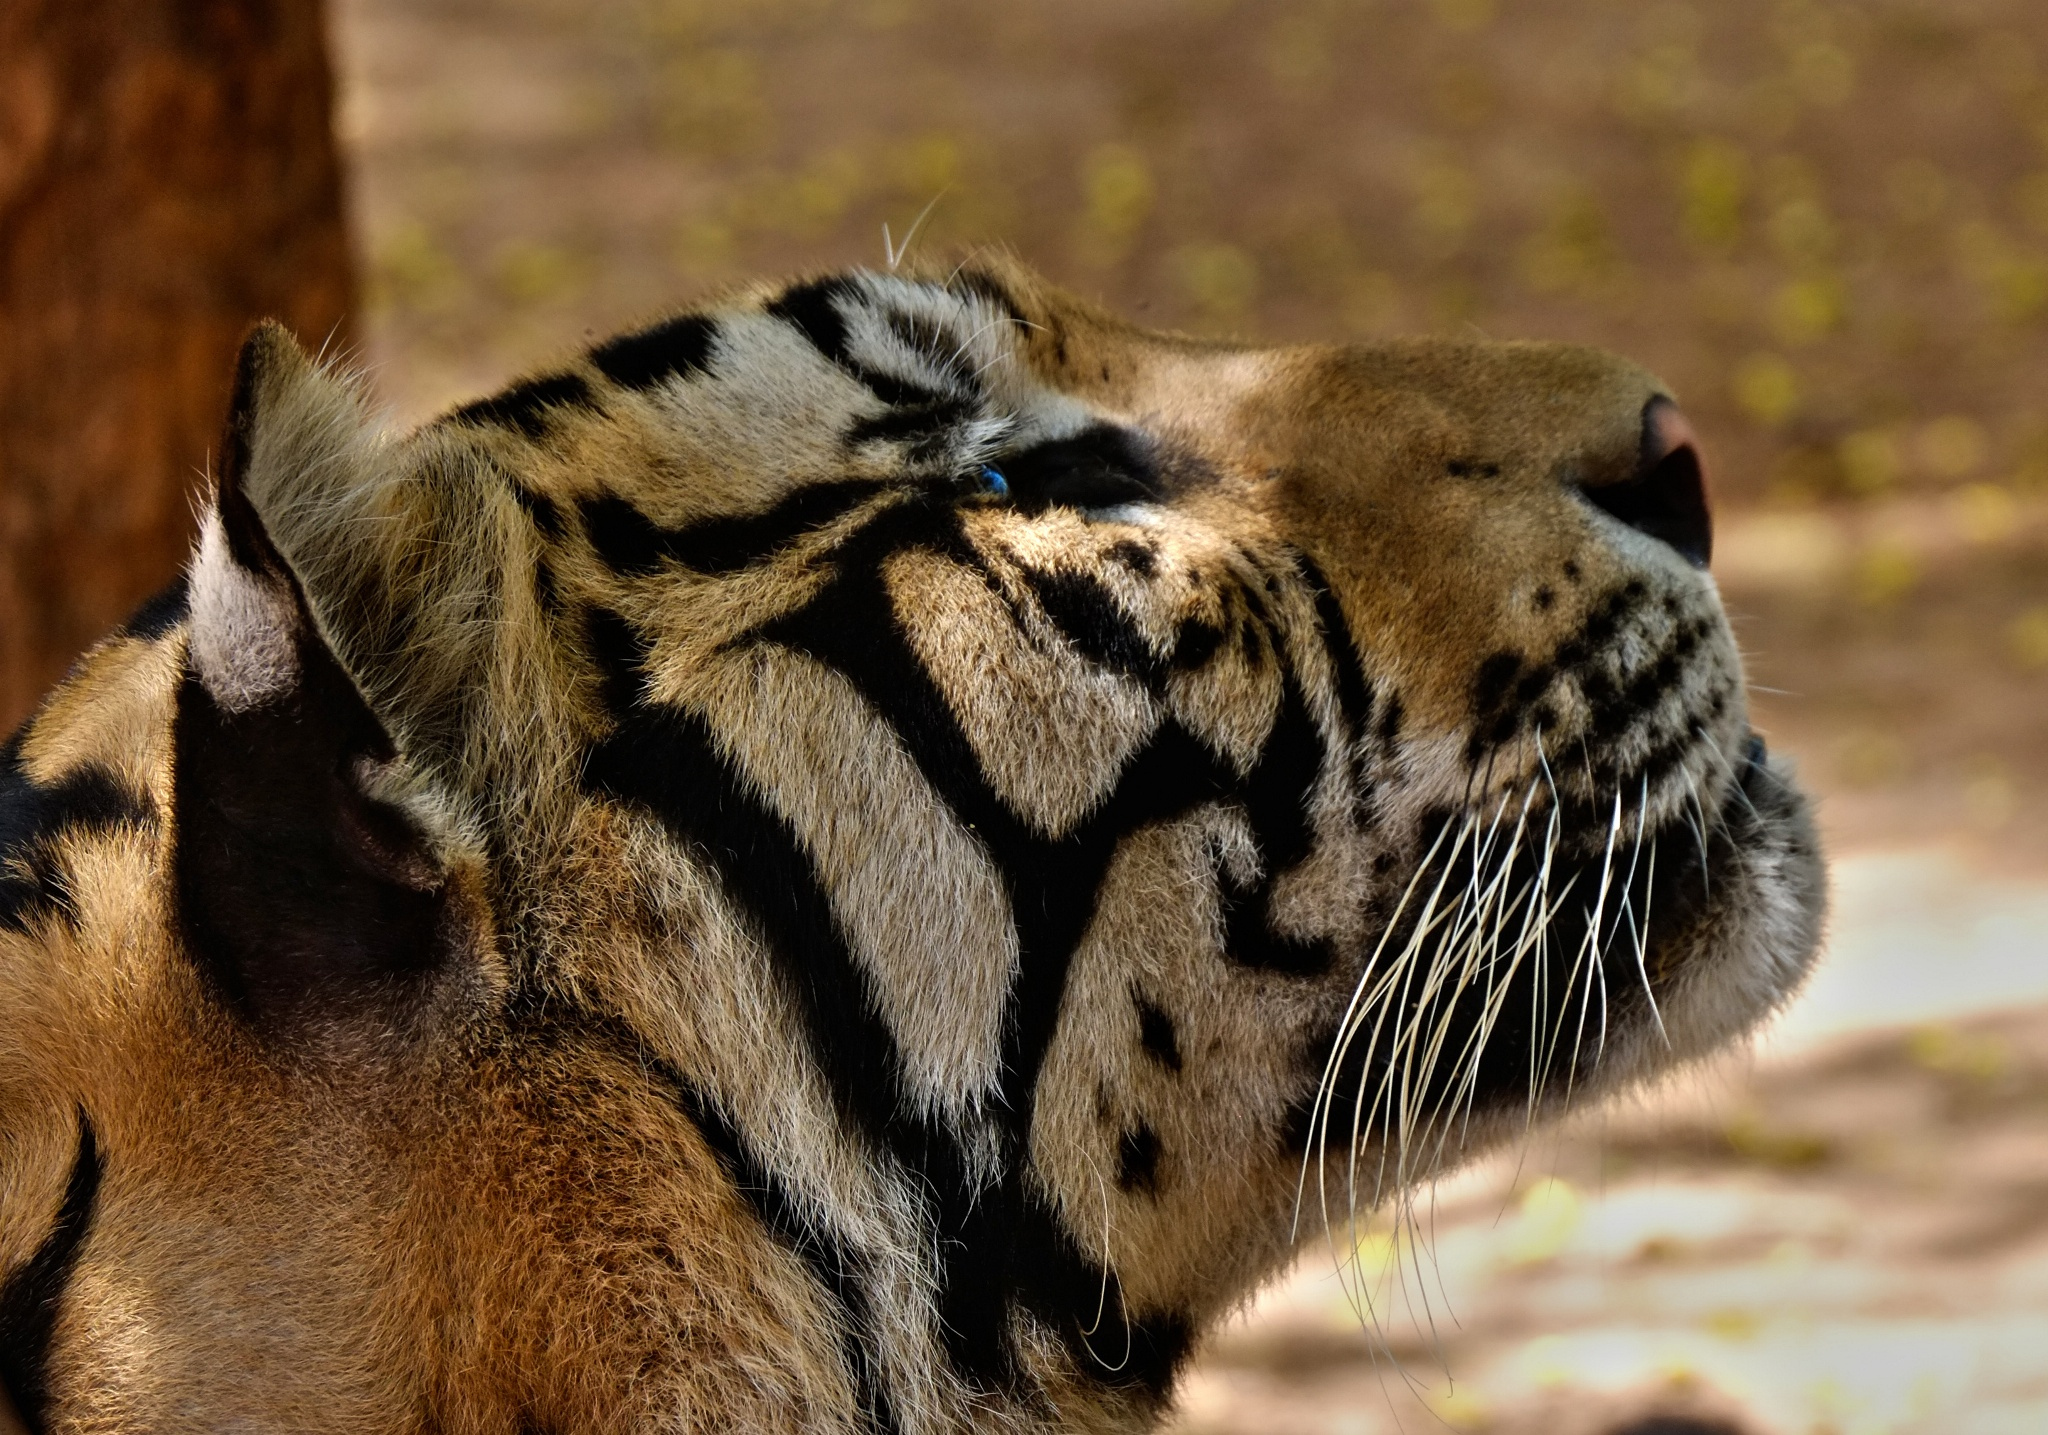tiger: (190, 247, 1763, 1374)
